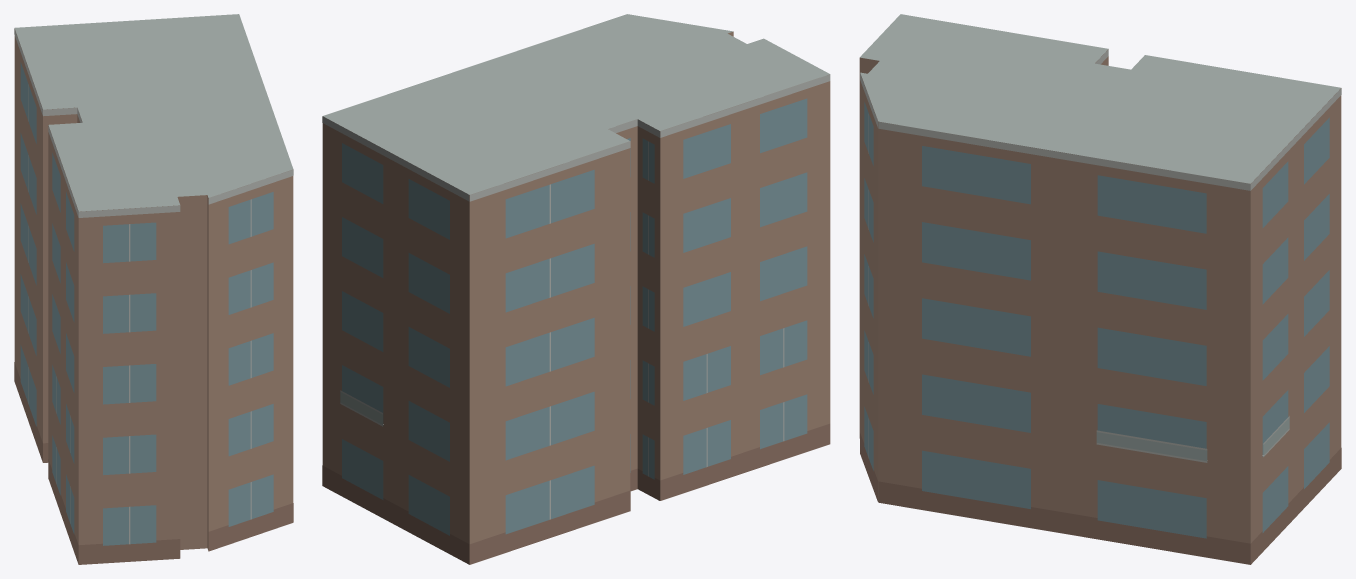
Rendered from survey-upis-32790475.glb.
3 views of the same model, side by side, from view 1: azimuth 30°, elevation 25°; view 2: azimuth 150°, elevation 25°; view 3: azimuth 270°, elevation 25° (orthographic). The views are drawn at different scales.
Parts seen in each view (by area): view 1: survey-upis-32790475.tmp; view 2: survey-upis-32790475.tmp; view 3: survey-upis-32790475.tmp.
Boxes of the visible parts, x1=… form: survey-upis-32790475.tmp: x1=14, y1=14, x2=293, y2=564; survey-upis-32790475.tmp: x1=322, y1=14, x2=830, y2=564; survey-upis-32790475.tmp: x1=859, y1=14, x2=1341, y2=564.
Bounding box in the file's own units: 12.63 × 13.2 × 15.14.
